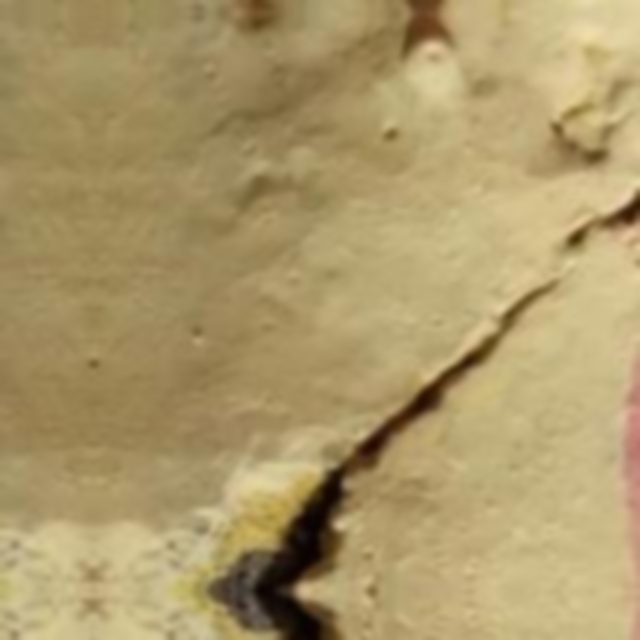SurfaceCrack: (206, 150, 640, 640)
